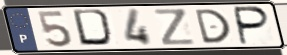4: (122, 7, 153, 48)
5: (36, 9, 74, 49)
D: (70, 8, 117, 49), (193, 8, 233, 45)
P: (233, 6, 272, 47)
Z: (152, 8, 199, 47)
